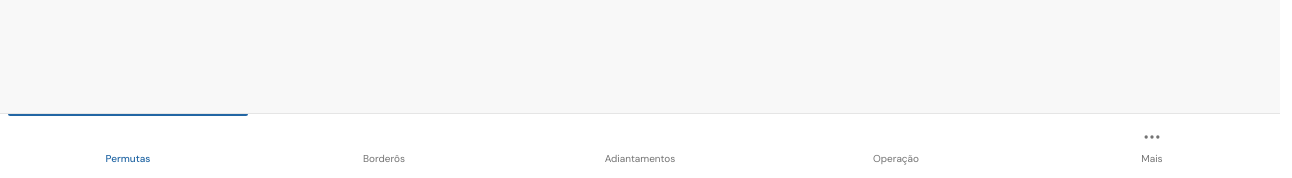
Test: BottomNav › acima de 5 alvos, o excedente vai para "Mais" — e o "Mais" abre a lista
The width and height of the screenshot is (1292, 178).
Expected: the number of links is 4, [0,114,256,177]; [363,152,405,164]; [605,152,675,164]; [873,152,919,164]
Click the button "Mais" at (1152, 146), box [1024,114,1280,177]
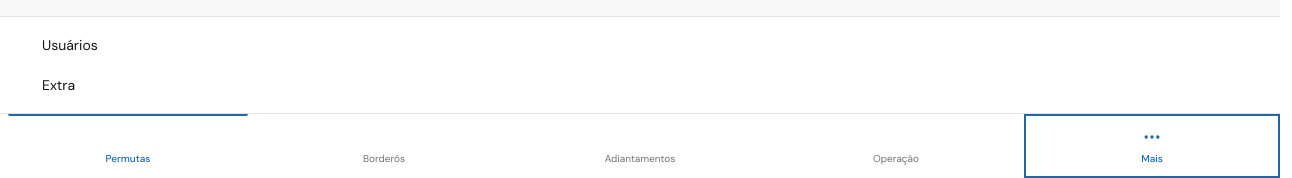
Expected: the button "Mais" is expanded, [1024,114,1280,177]
Expected: the link "Extra" is shown, [42,76,75,94]
